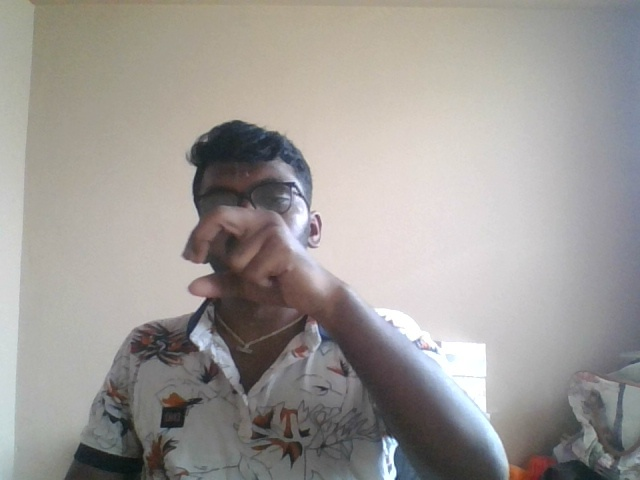No: (175, 195, 316, 324)
